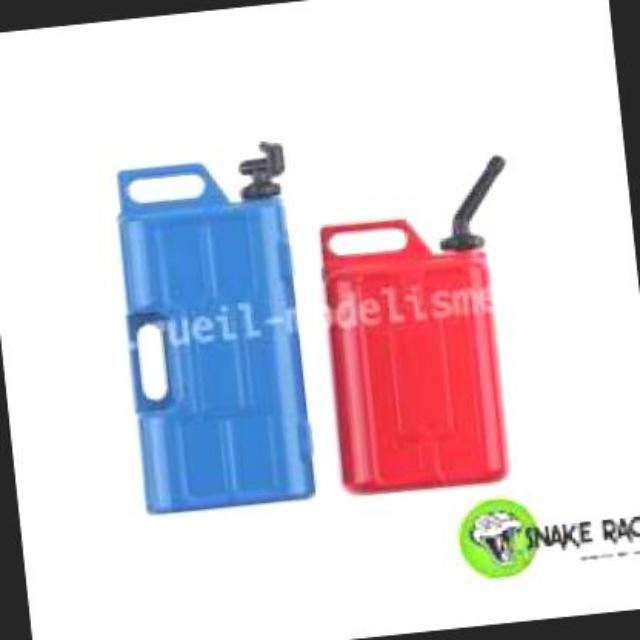chemical_plastic_gallon: (88, 127, 324, 523), (308, 190, 516, 500)
